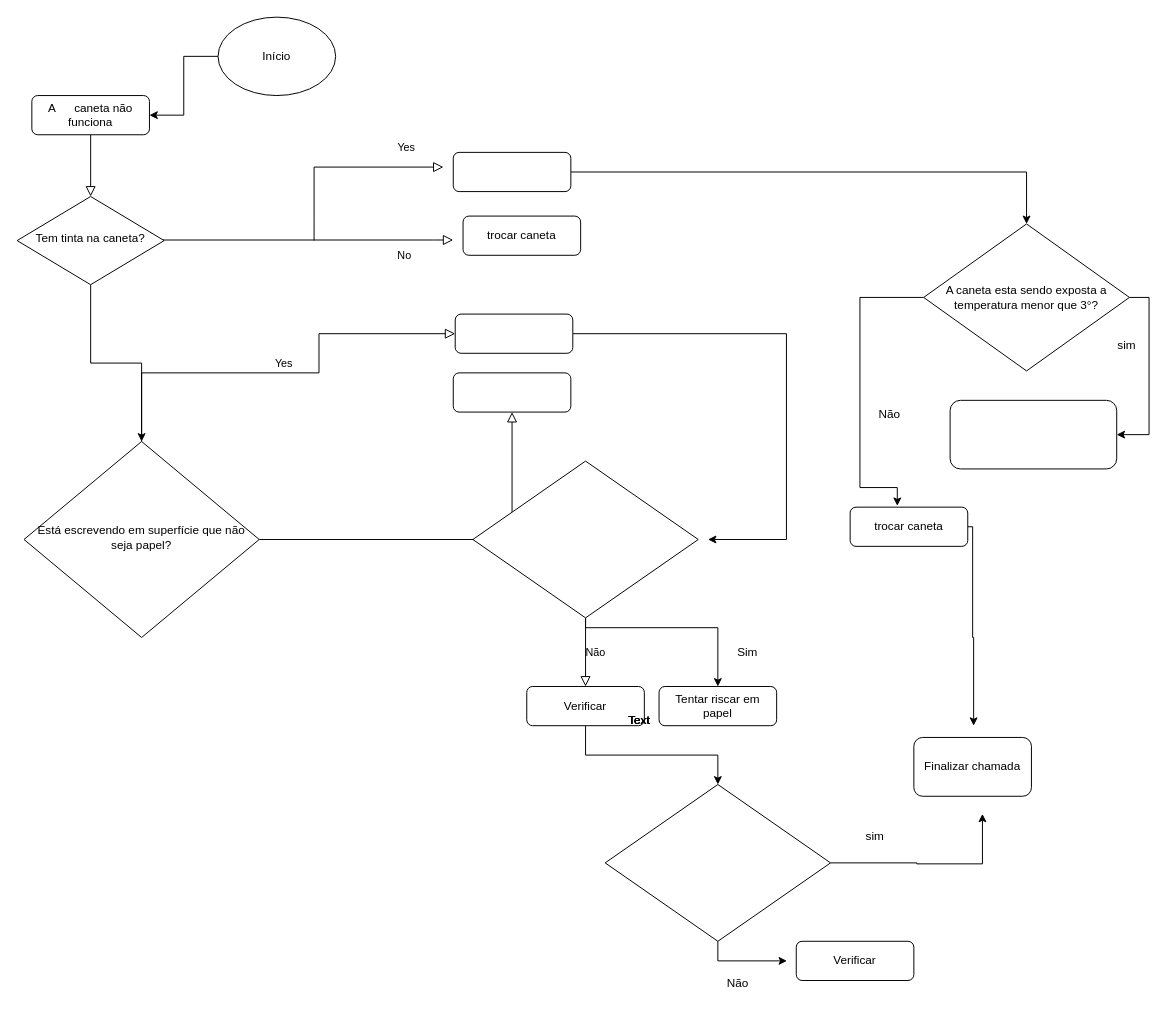
This 1174x1015 diagram has some shape labels left out. The shapes that lost their labels are listed below. From the top down, each one's centre as x and y in pixels, then its label:
At [511,171]: "Verifica a Temperatura".
At [513,333]: "verificar o bico esférico da caneta".
At [511,392]: "Escreva em papel".
At [1033,434]: "Armazenar em temperatura superior a 2° graus".
At [585,539]: "Verificou o bico esférico?".
At [717,862]: "Funcionou?".
